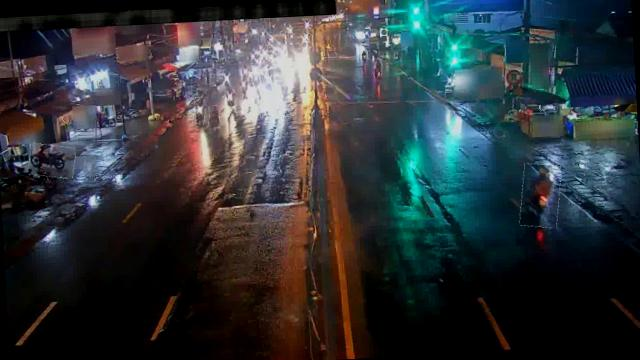Bike: (518, 162, 562, 228), (27, 142, 76, 178), (192, 96, 206, 127), (208, 105, 220, 130), (224, 86, 235, 106)
